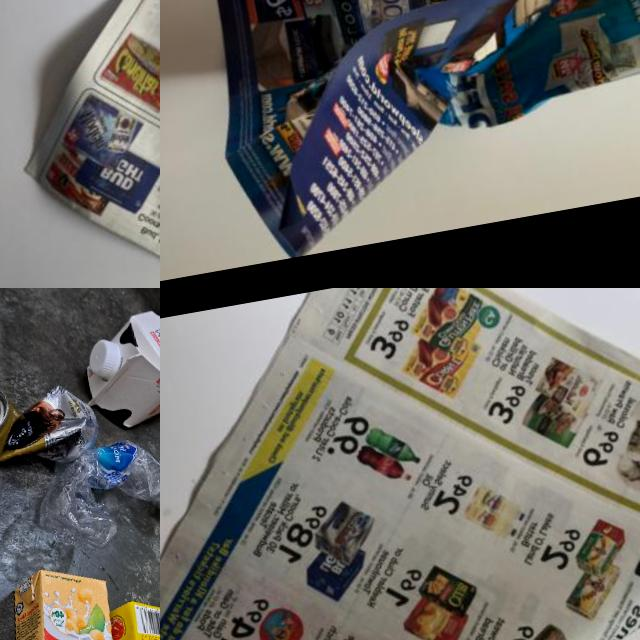caixinha: (72, 288, 160, 433), (0, 559, 141, 640)
garrafa plástica: (27, 429, 160, 557)
lata: (0, 367, 104, 483)
papel: (160, 288, 640, 640), (177, 0, 640, 265), (0, 0, 160, 288)
tampa plástica: (85, 336, 124, 380)
